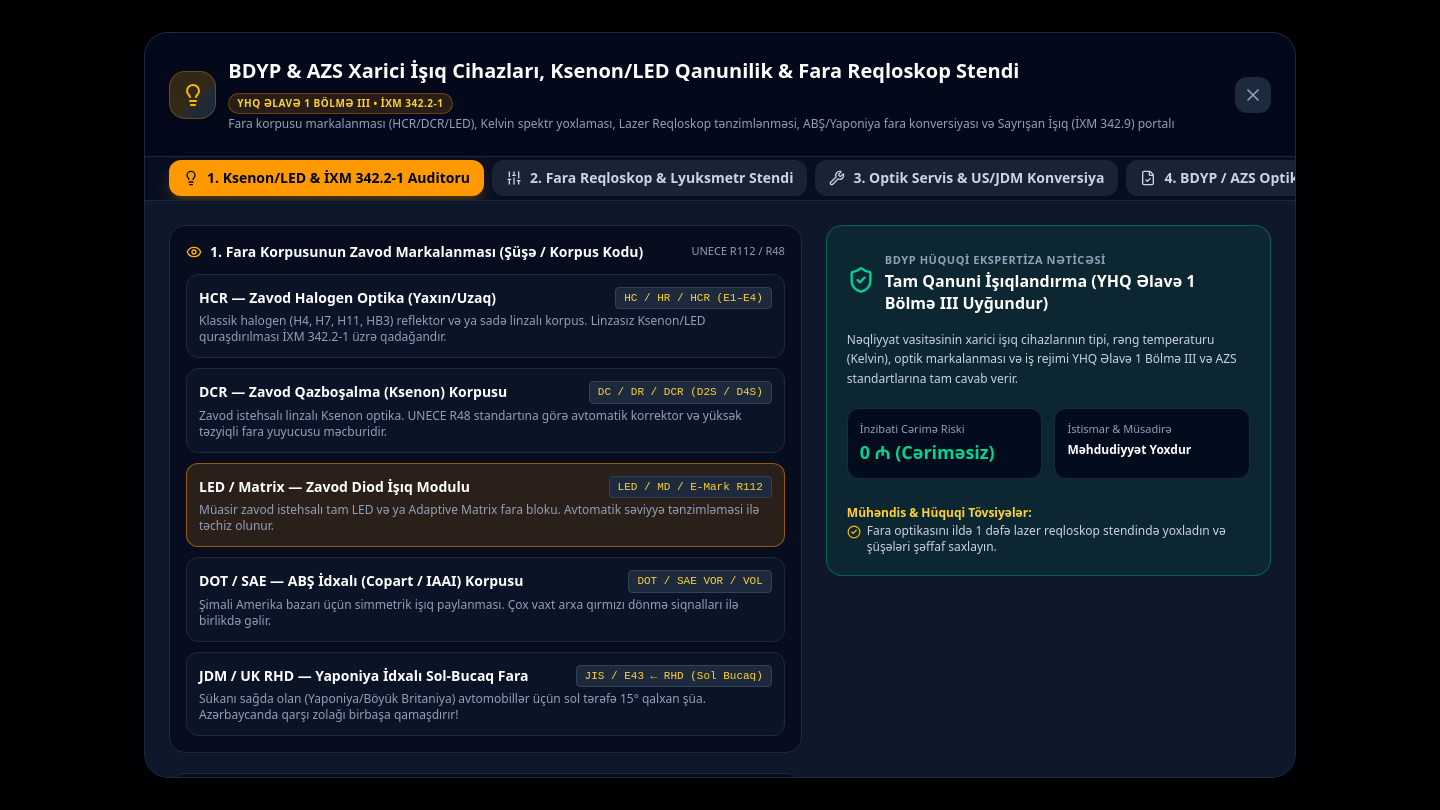
Scenario: HeadlightComplianceModal component › switches to BDYP/AZS Certificate tab, generates certificate, and searches registry
This screenshot has width=1440, height=810.
Click the button with test id "tab-headlight-certificate" at (1270, 178), box x1=1126 y1=160 x2=1413 y2=196
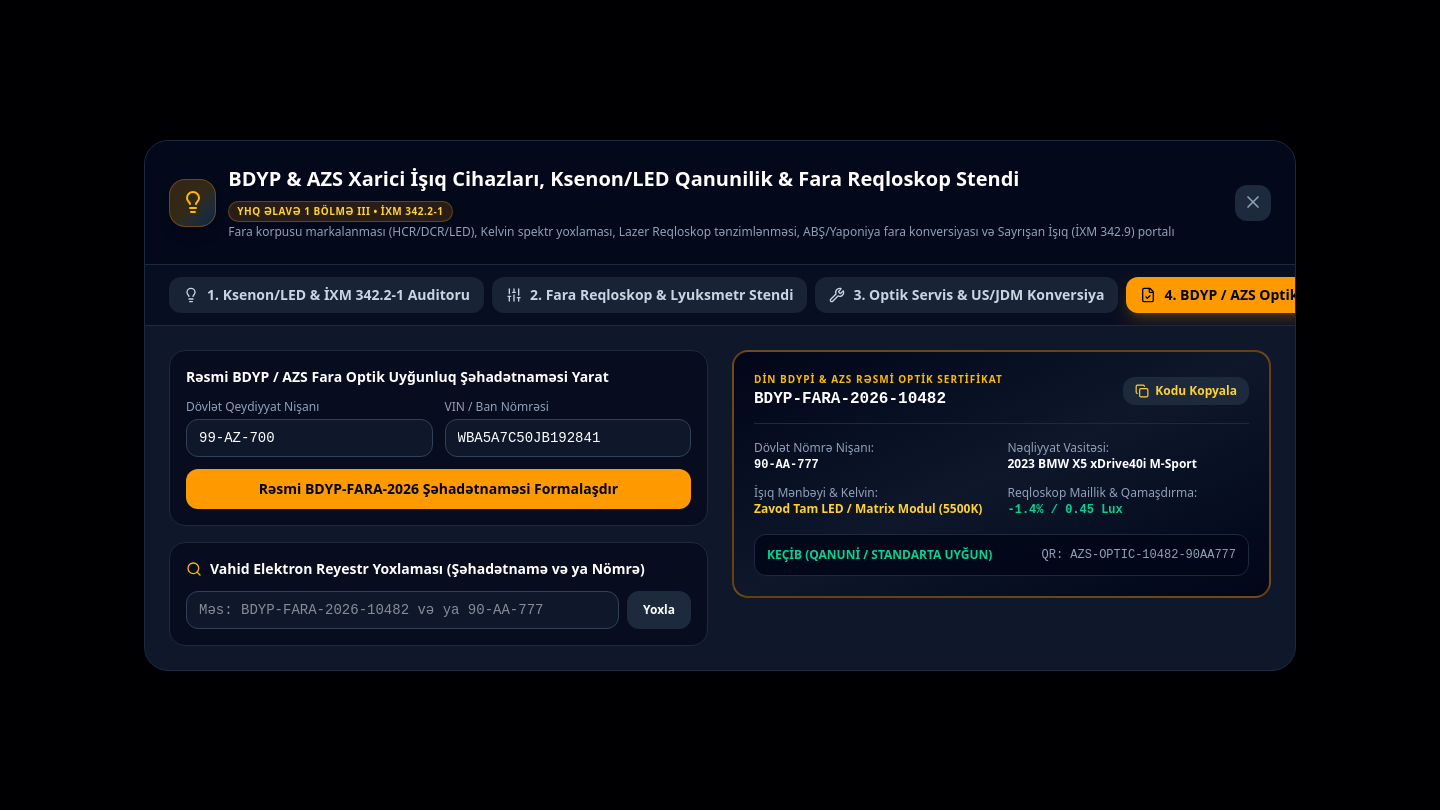
Replace the text in the field with test id "cert-plate-input" with "77-LT-999" at (309, 438), box x1=186 y1=418 x2=432 y2=456
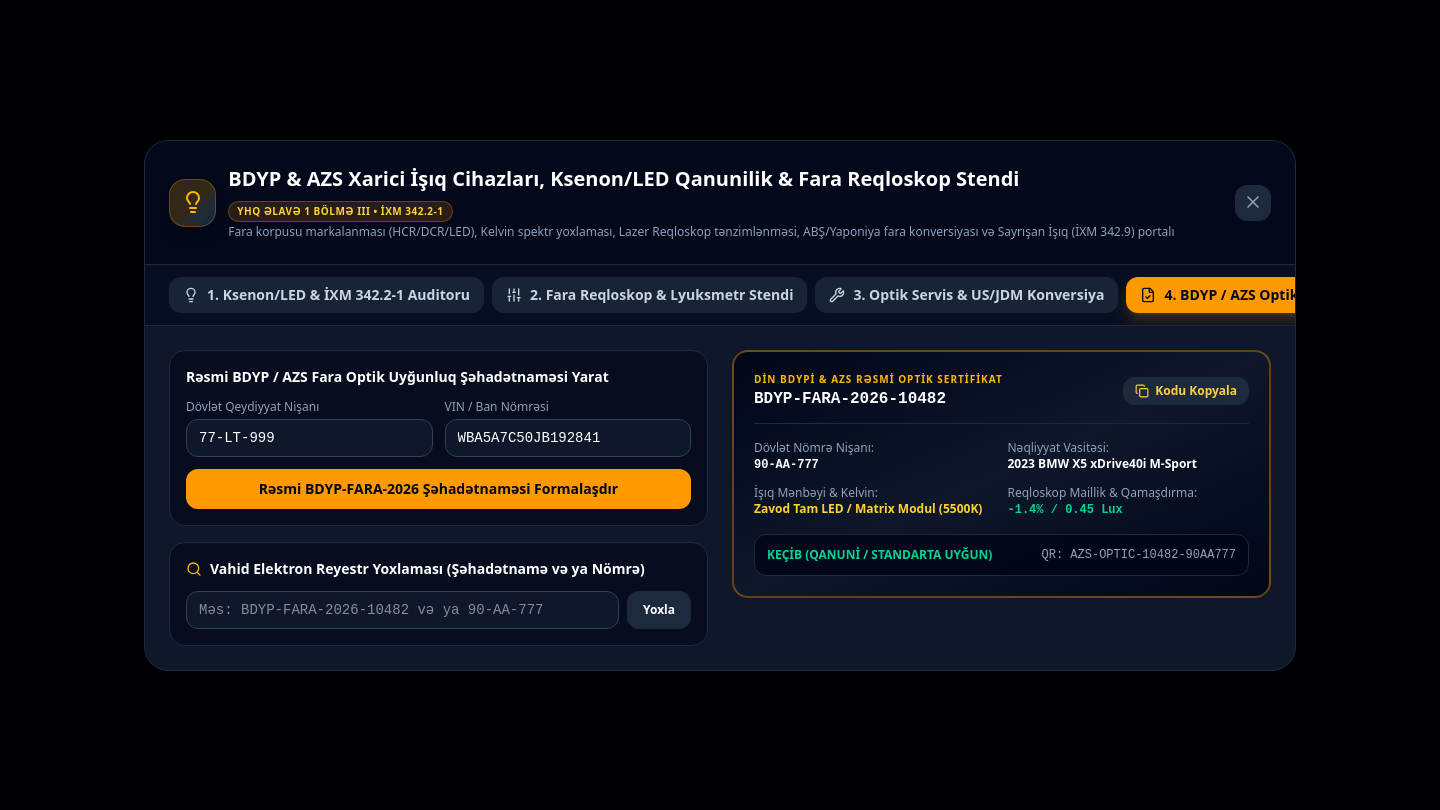
Click the button with test id "generate-headlight-cert-btn" at (438, 488), box x1=186 y1=468 x2=691 y2=508
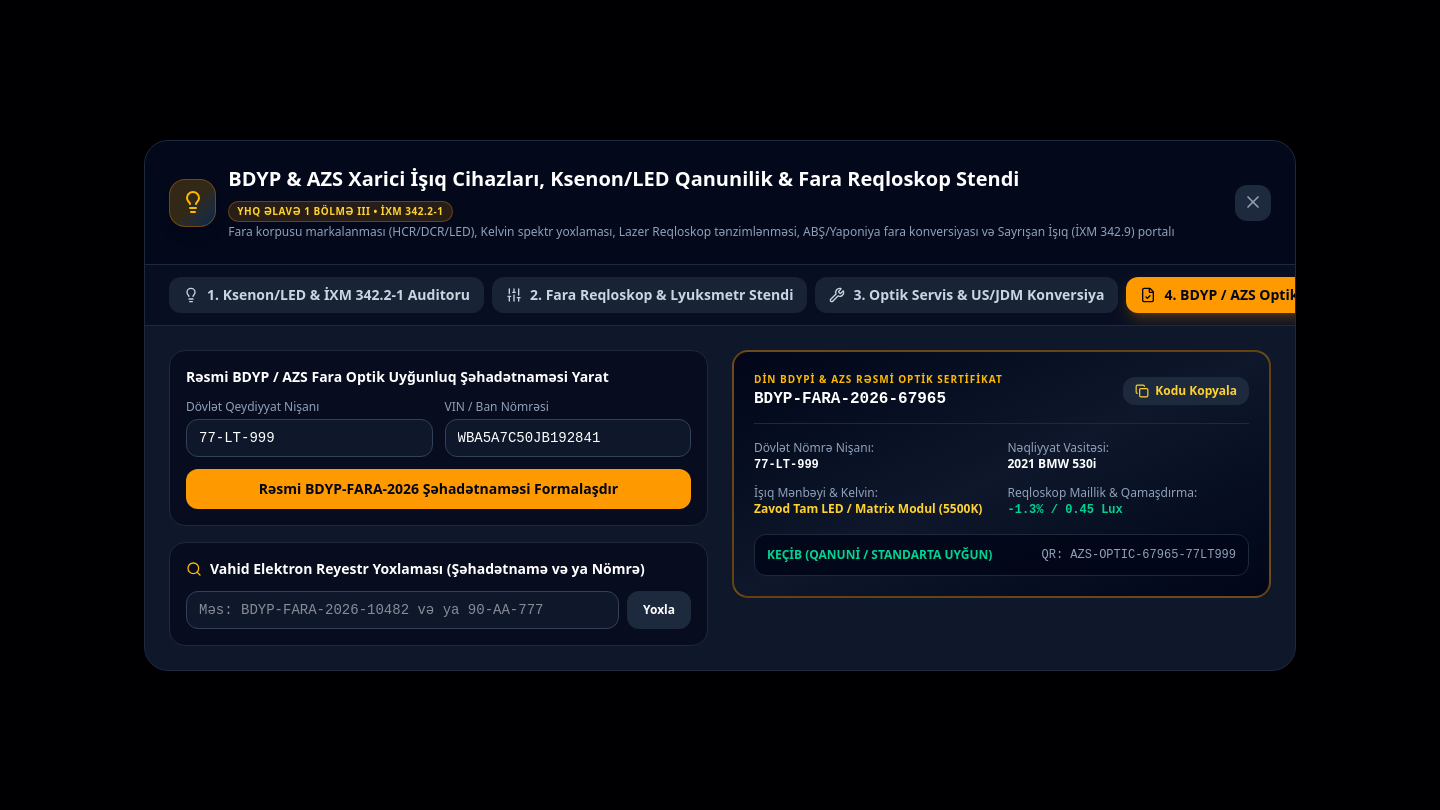
Result: the heading with test id "active-headlight-cert-number" reads "BDYP-FARA-2026-67965" at x1=754 y1=390 x2=946 y2=408
Search registry by plate
Type "90-AA-777" into the field with test id "headlight-registry-search-input" at (403, 610), box x1=186 y1=590 x2=619 y2=628
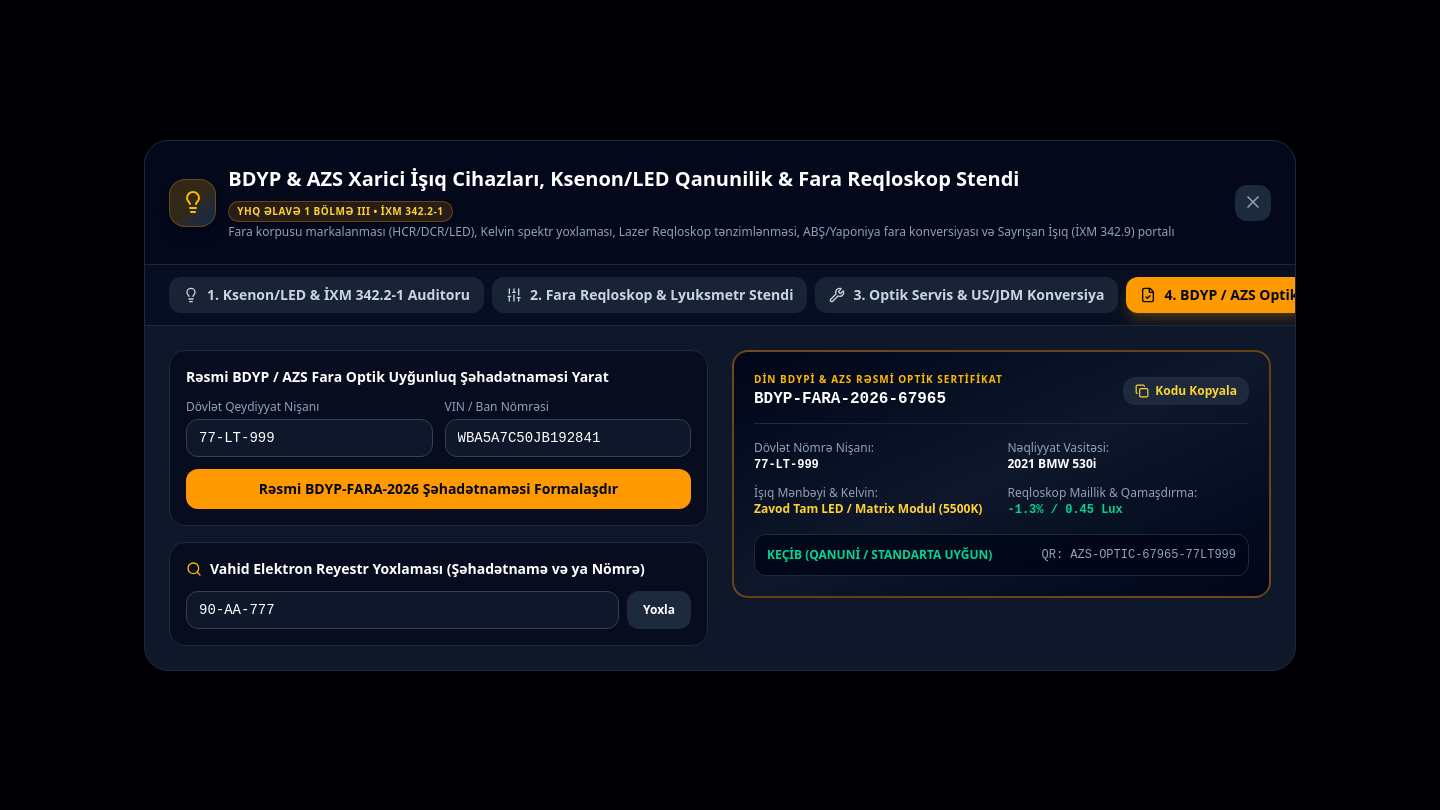
Click the button with test id "headlight-registry-search-btn" at (659, 610), box x1=627 y1=590 x2=691 y2=628
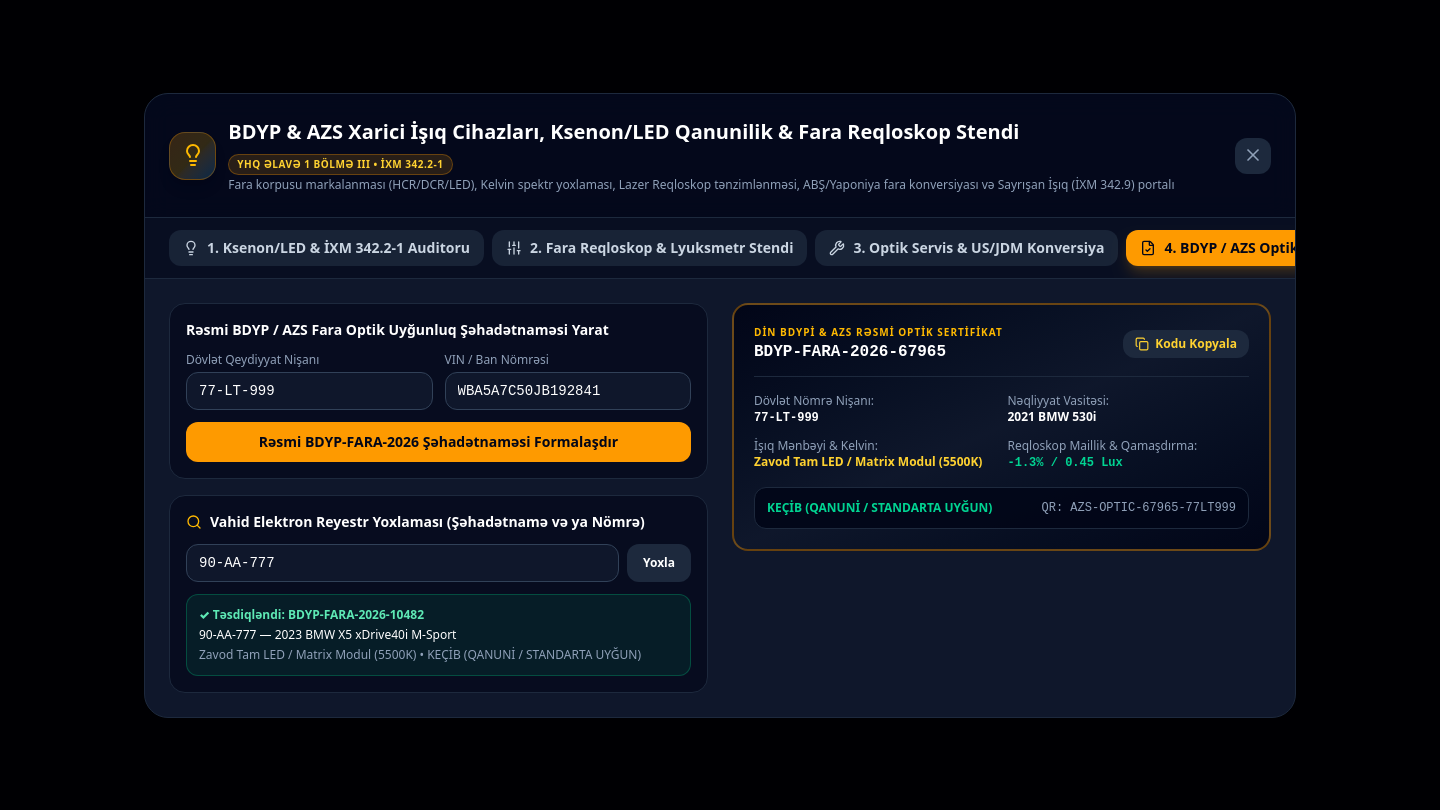
Result: the element with test id "headlight-registry-search-result" shows "BDYP-FARA-2026-10482" at x1=288 y1=606 x2=424 y2=622
